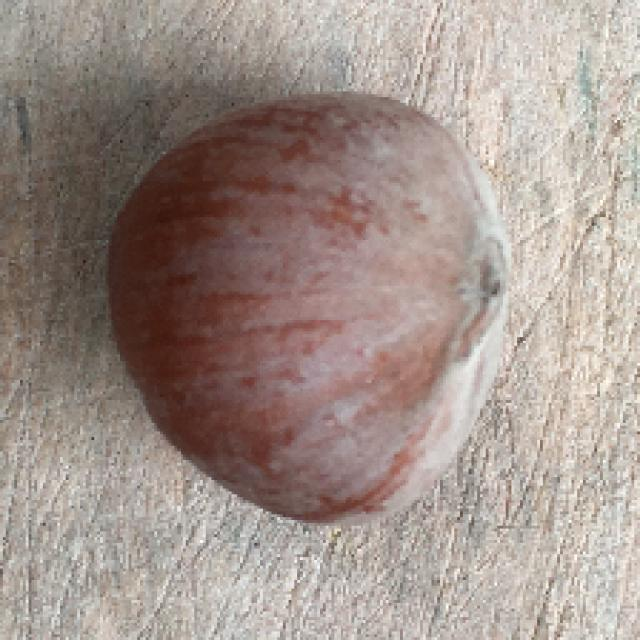QualityHazelnut: (105, 91, 519, 532)
